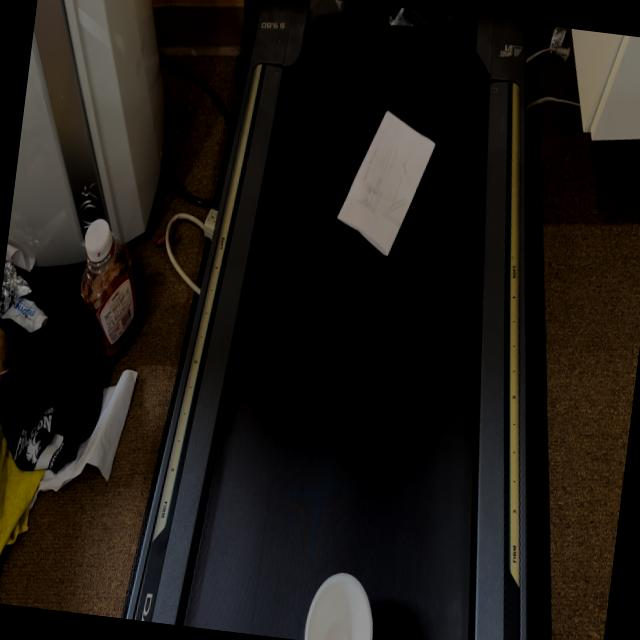Recycle: (332, 104, 439, 262), (302, 567, 381, 640)
